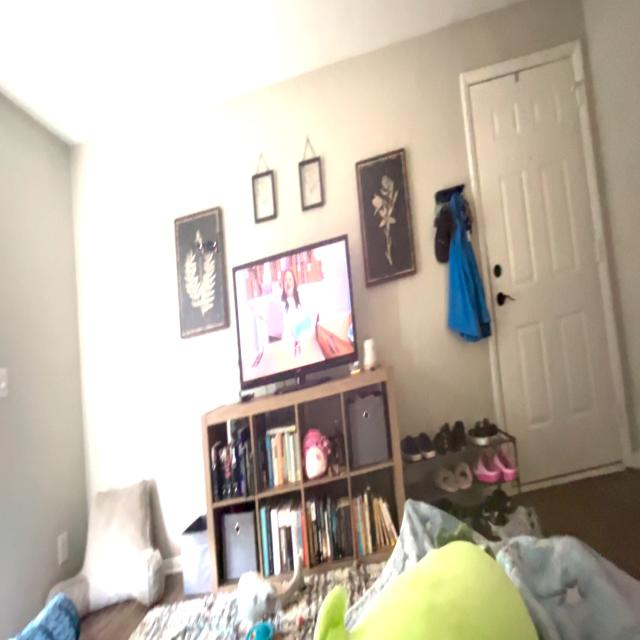drone: (188, 225, 230, 279)
